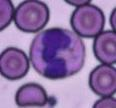N: (29, 27, 86, 78)
